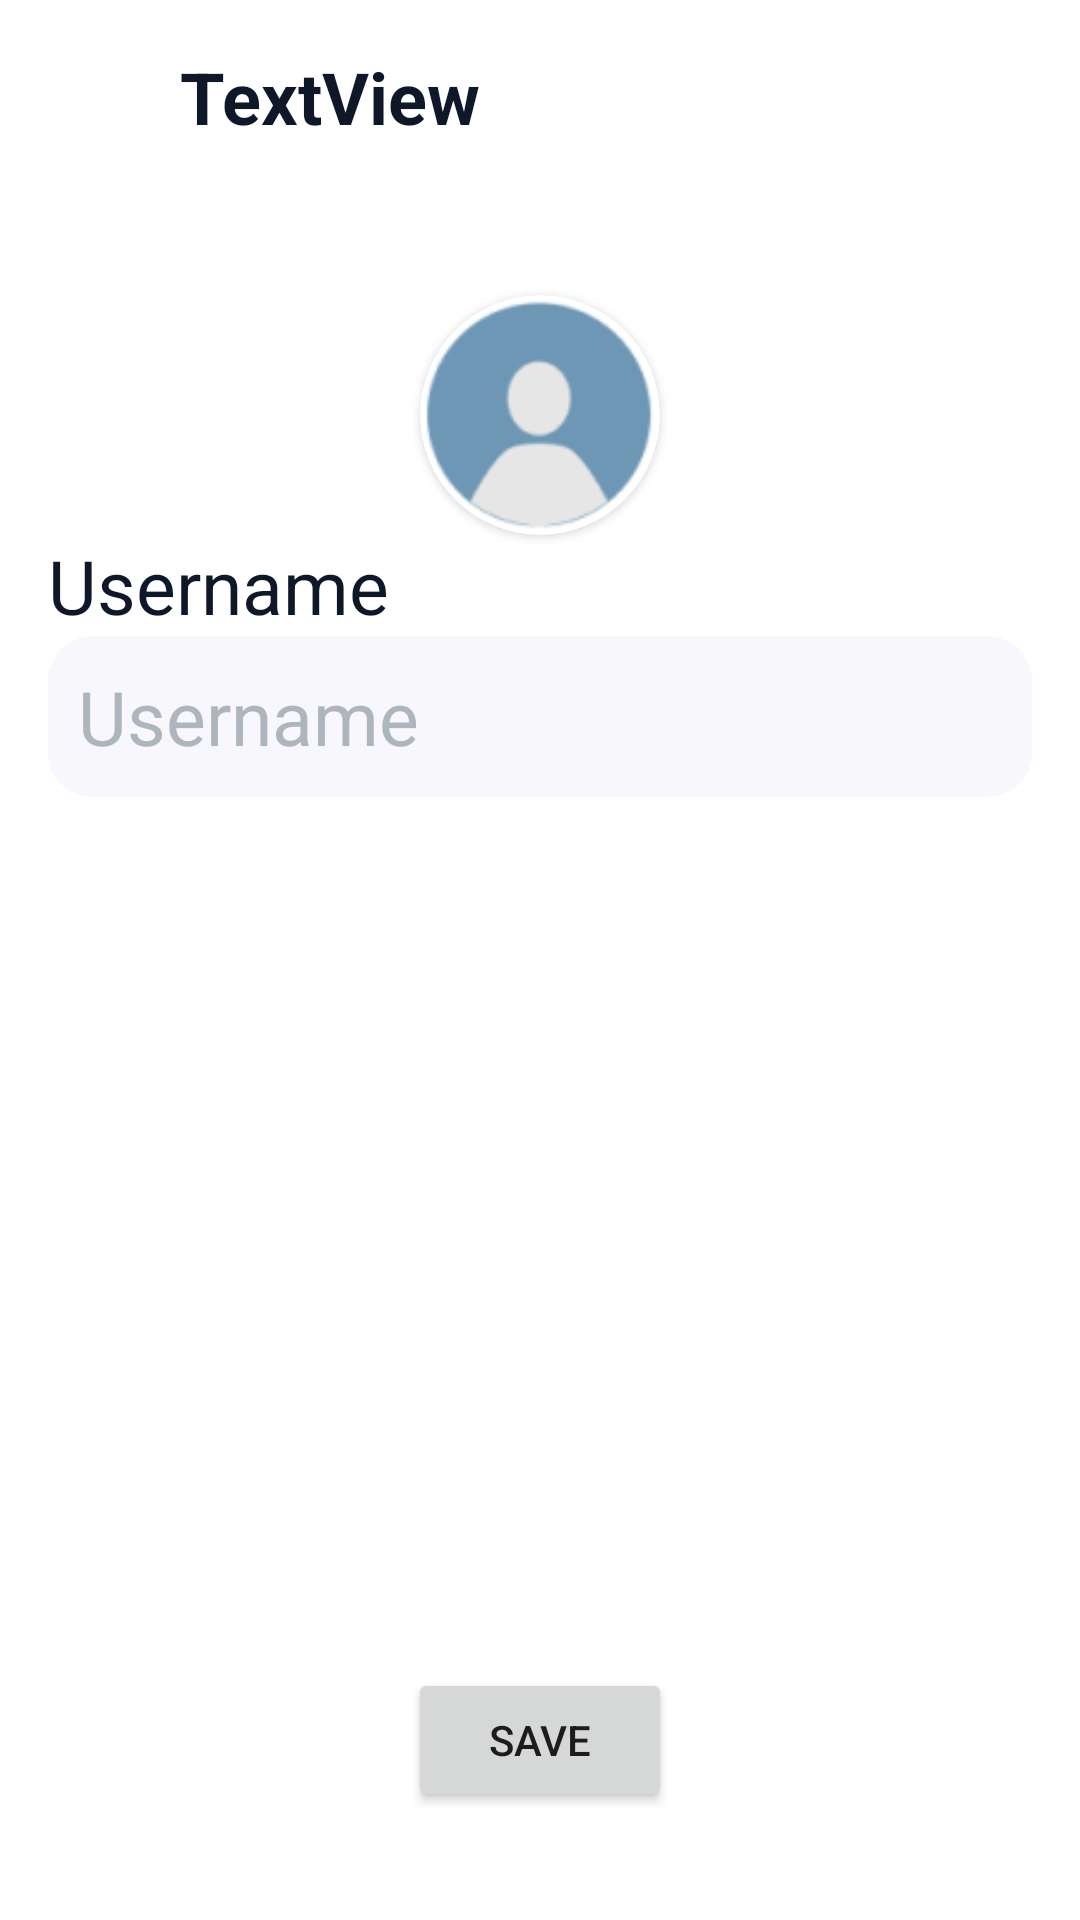

Where to tap for icons on this 1080 × 1920 app screen, as [x,y]:
defaultavatar: [538,418]
